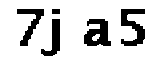5: (119, 5, 156, 50)
7: (11, 5, 44, 48)
a: (81, 16, 116, 52)
j: (42, 6, 73, 58)
